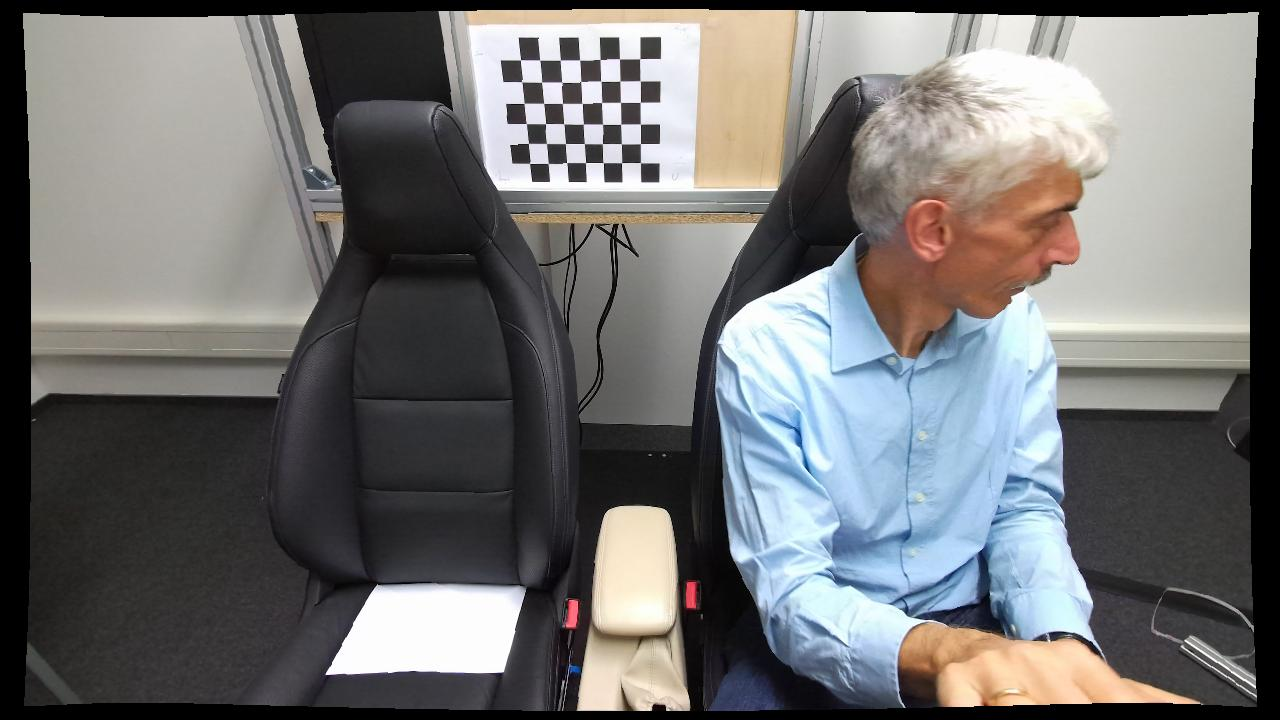Distracted: (713, 48, 1130, 711)
